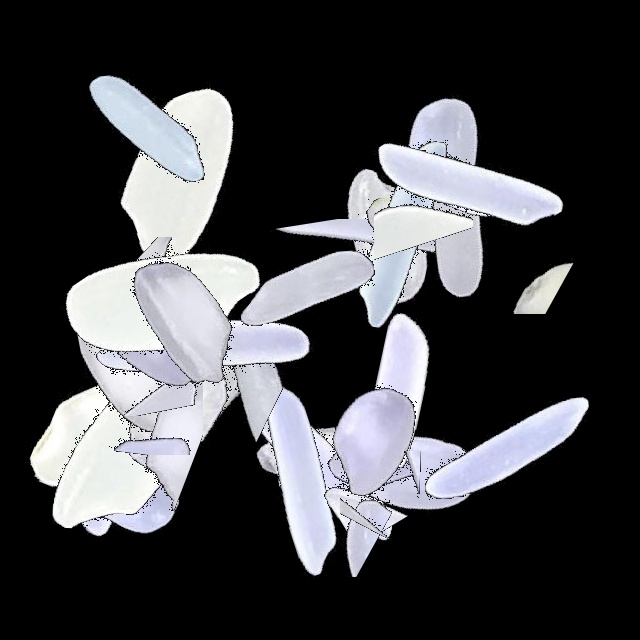Broken: (407, 70, 562, 320), (130, 234, 270, 484), (87, 303, 337, 443), (67, 294, 203, 544), (212, 411, 462, 544), (268, 198, 518, 330), (77, 255, 204, 505), (298, 346, 423, 596), (217, 219, 467, 342), (0, 302, 250, 416), (198, 466, 448, 577), (340, 355, 449, 605), (55, 237, 305, 345), (390, 213, 640, 314), (243, 451, 493, 551), (374, 66, 473, 316), (453, 113, 549, 363), (26, 360, 276, 455), (288, 492, 538, 584), (317, 328, 407, 578), (338, 246, 588, 331), (97, 319, 182, 569)
Full: (200, 337, 450, 587), (35, 248, 285, 498), (34, 233, 284, 483), (0, 226, 250, 476), (0, 304, 250, 554), (323, 27, 573, 277), (195, 344, 445, 594), (262, 114, 512, 364), (290, 349, 540, 599), (0, 360, 250, 610), (61, 55, 311, 305), (176, 352, 426, 602), (20, 2, 270, 252), (2, 306, 252, 556), (329, 100, 579, 350), (277, 107, 527, 357), (0, 322, 250, 572), (54, 287, 304, 537), (2, 244, 252, 494), (269, 279, 519, 529), (247, 315, 497, 565), (345, 55, 595, 305), (78, 225, 328, 475), (28, 209, 278, 459), (180, 161, 430, 411), (383, 322, 633, 572), (40, 171, 290, 421), (59, 194, 309, 444)
